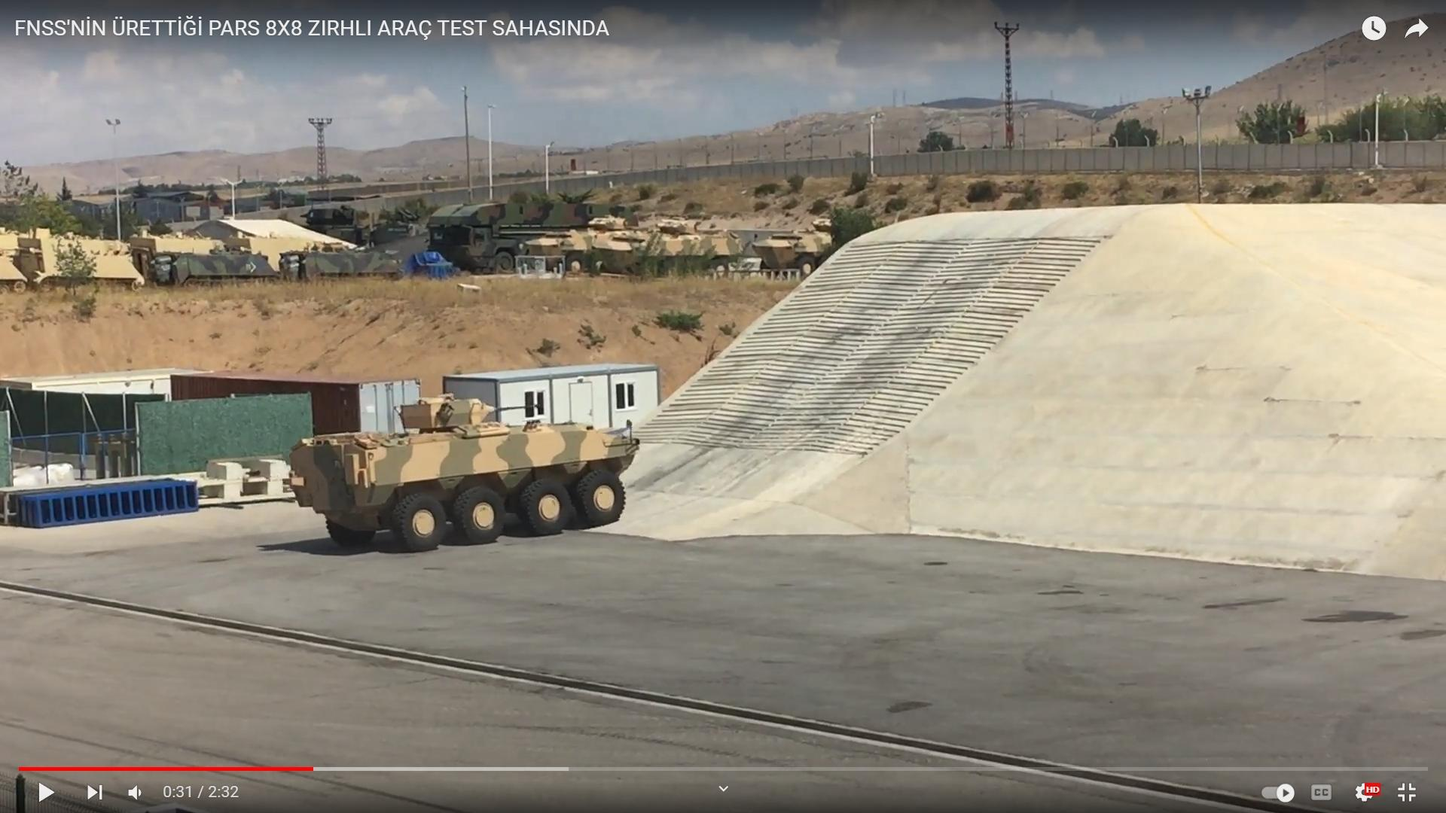armored_car: (288, 363, 655, 554)
